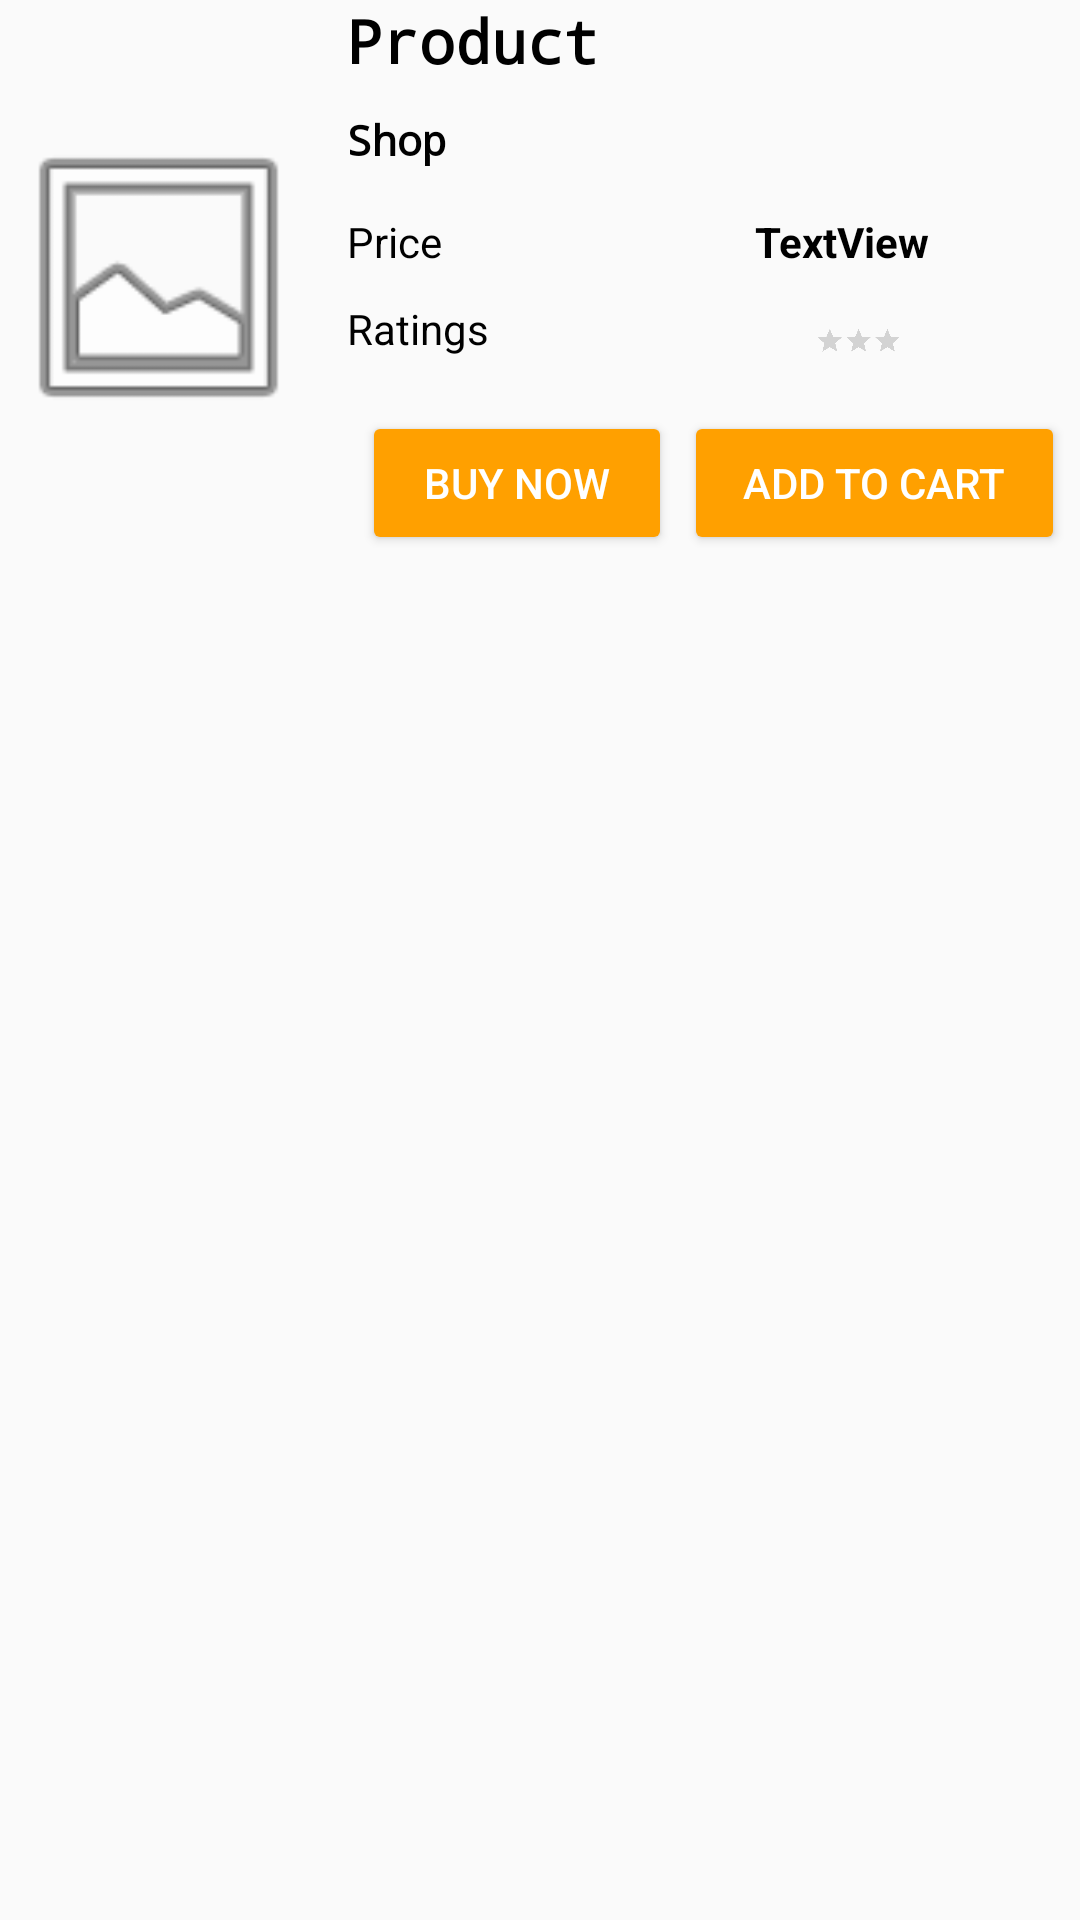

Point at icon controls on the screen. Image size 1080 × 1920, points as (x=x, y=y).
gallery: (x=158, y=277)
